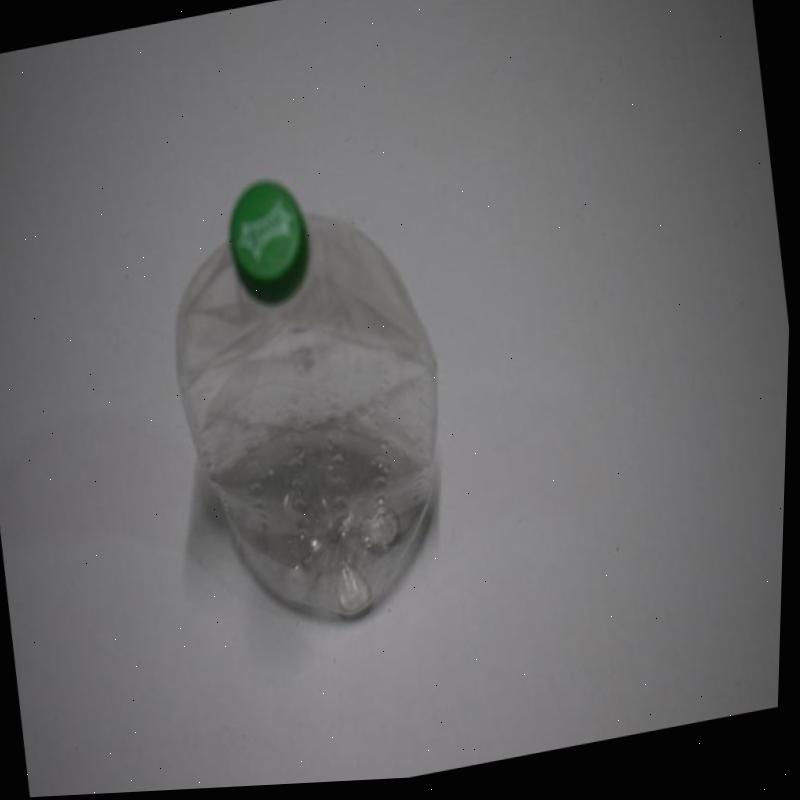botella: (147, 151, 476, 657)
